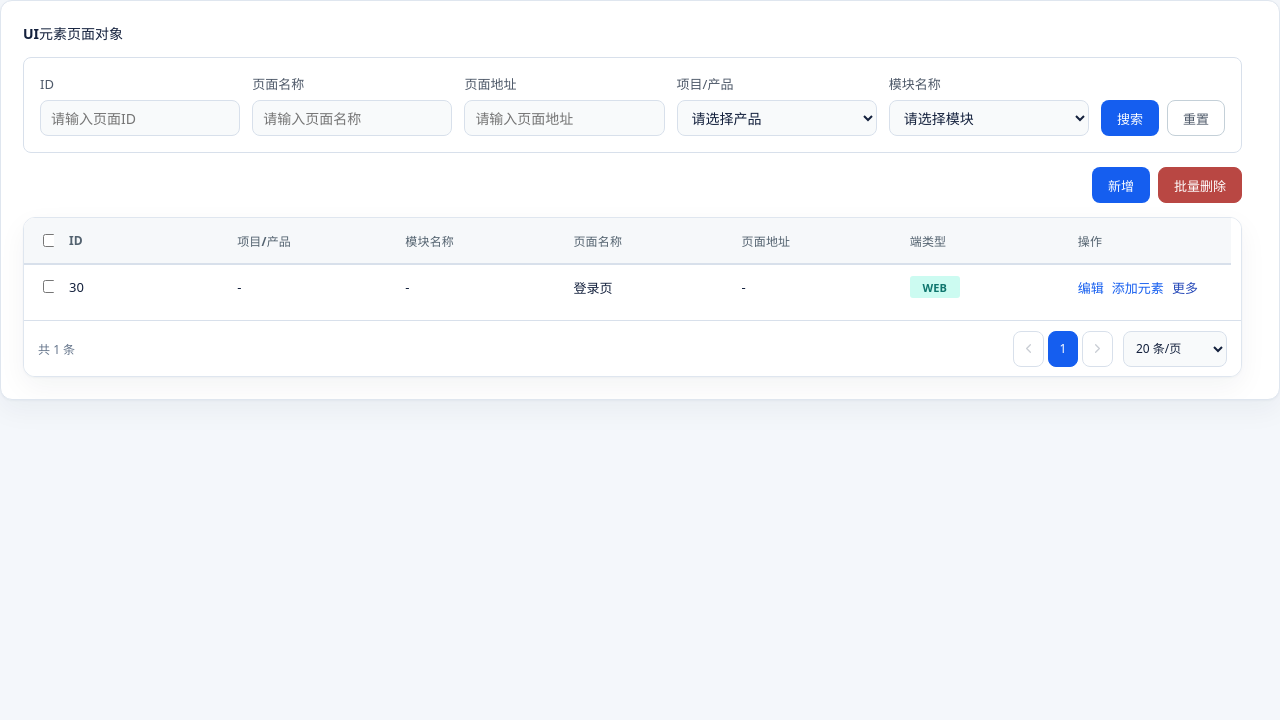
Test case: UIAutomationPage 测试用例页 › 页面元素自动采集弹窗展示数组响应中的在线 UI 执行器
Click the button "添加元素" at coordinates (1138, 287), box [1112,269,1164,305]
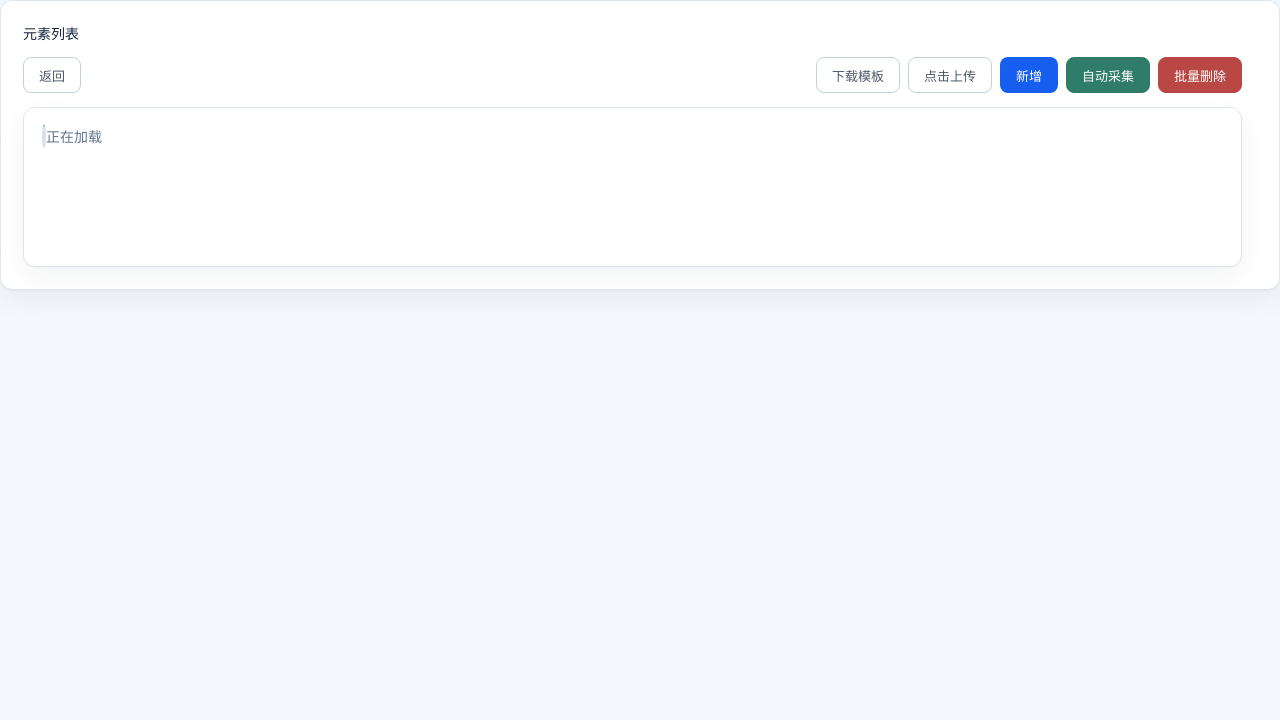
Click the button "自动采集" at coordinates (1108, 75), box [1066,57,1150,93]
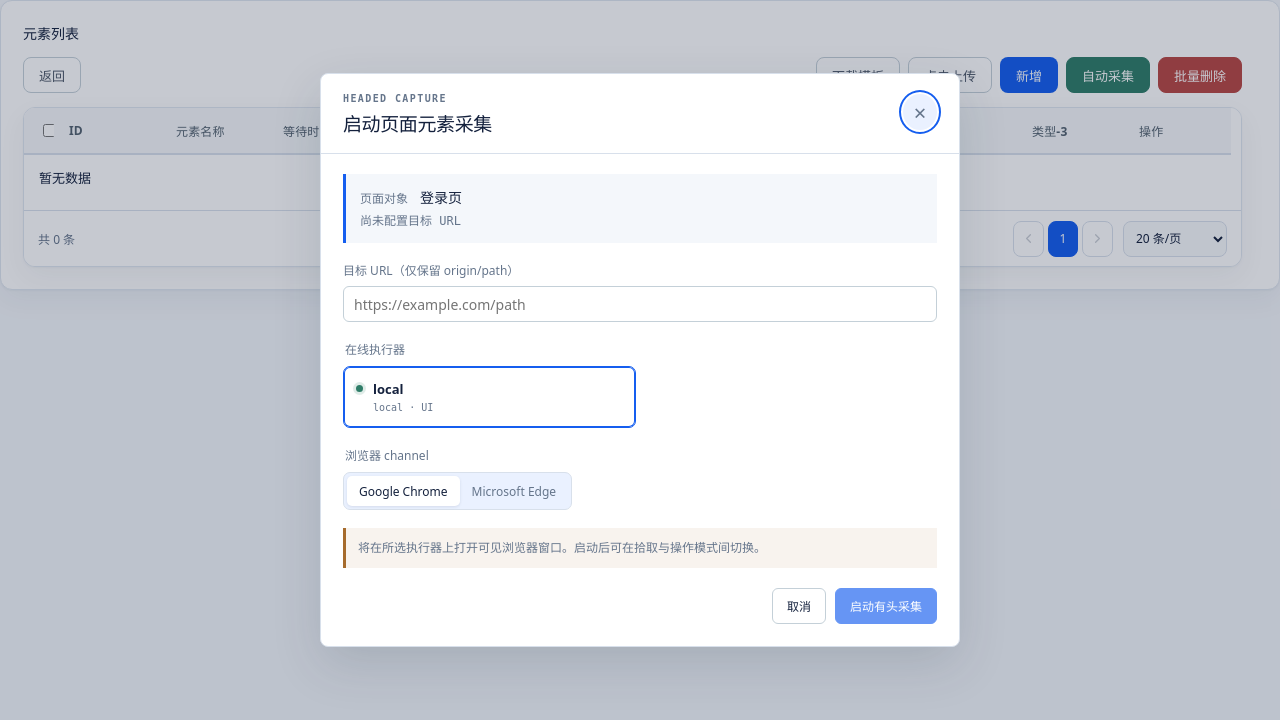
Check: the text "local" is shown, box [373,380,404,398]
